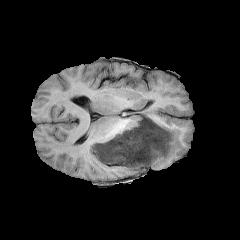glioma: (89, 109, 181, 168)
